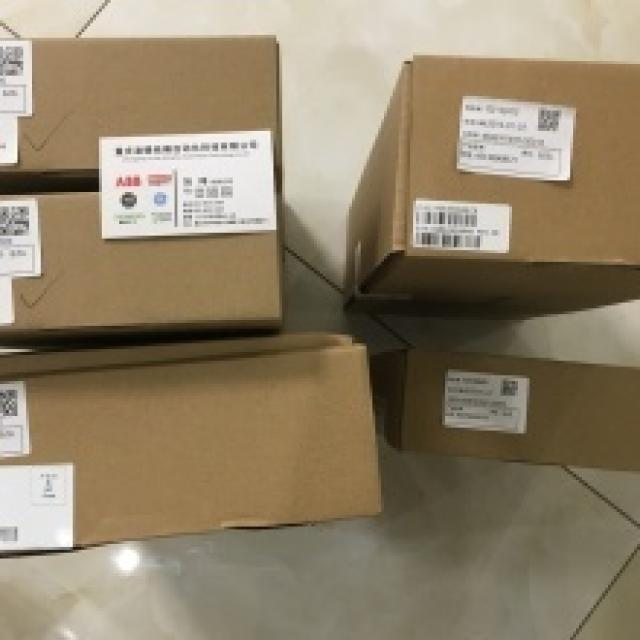box: (0, 332, 382, 561), (343, 57, 637, 324), (0, 185, 283, 355), (0, 37, 282, 177), (372, 347, 637, 474)
